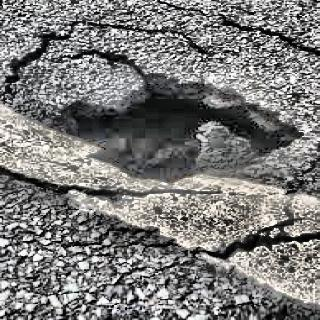crack: (0, 16, 199, 72), (4, 165, 253, 202), (152, 0, 320, 51), (156, 220, 320, 265)
pothole: (59, 66, 294, 190)
